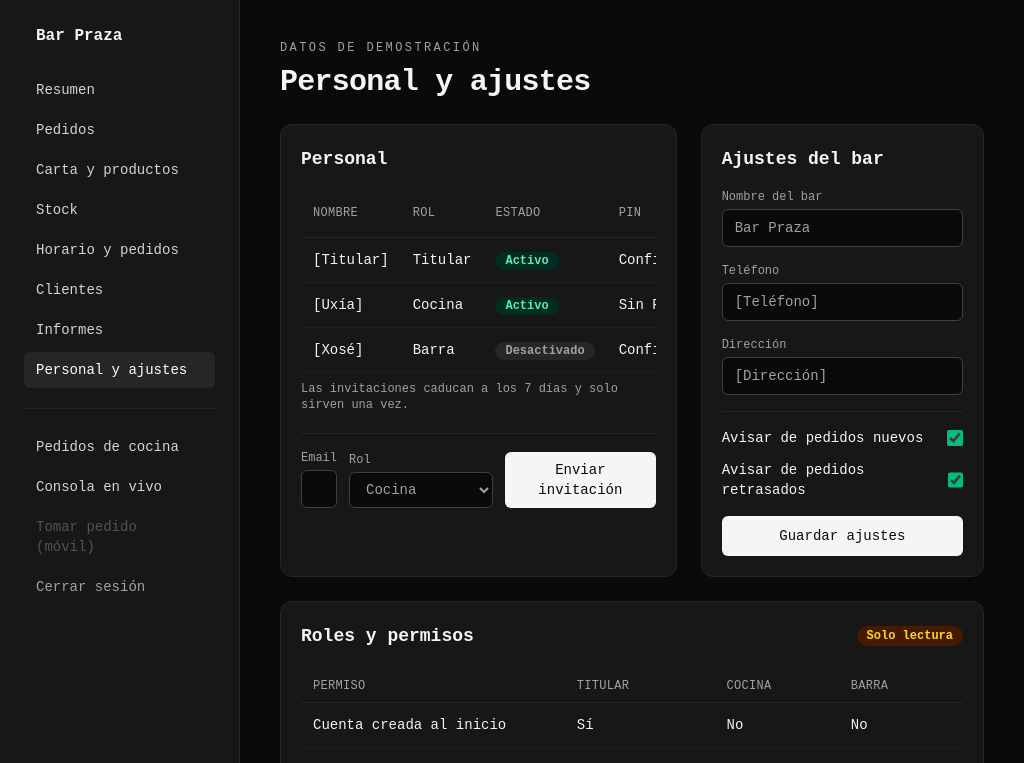
TeamPage edge cases › tells the user when the invitation cannot be sent, and keeps the email
Type "brais@bar.es" into the field labelled "Email" at x=319, y=489, box [301,470,337,508]
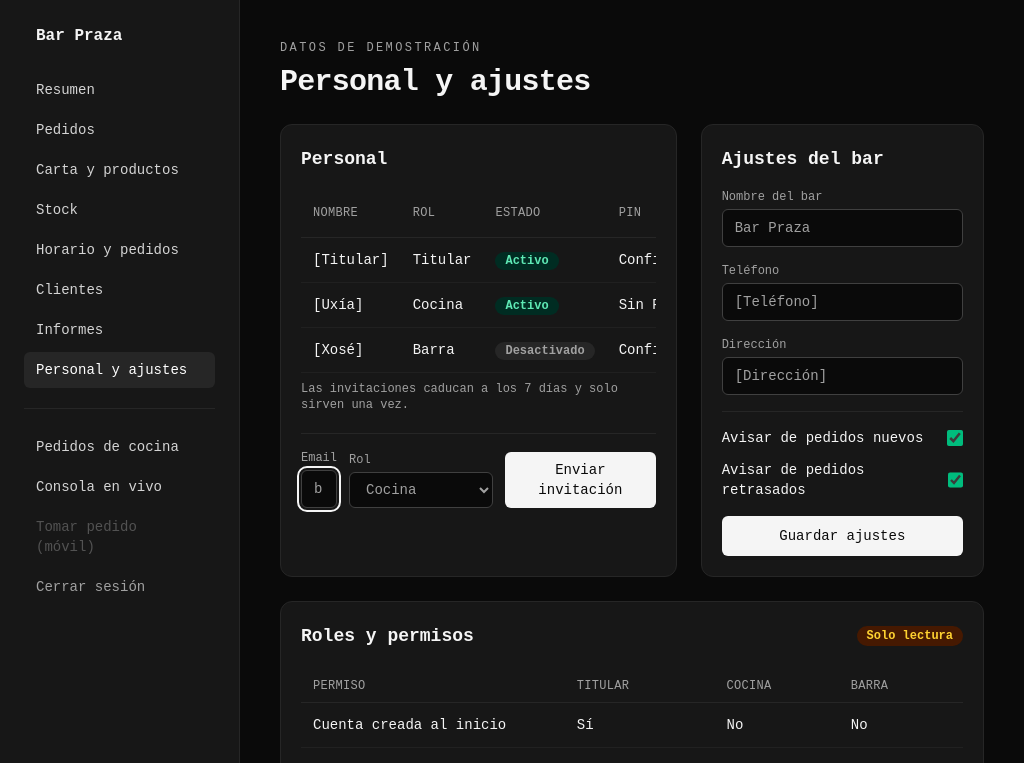
Click the button "Enviar invitación" at x=580, y=480, box [505,452,656,508]
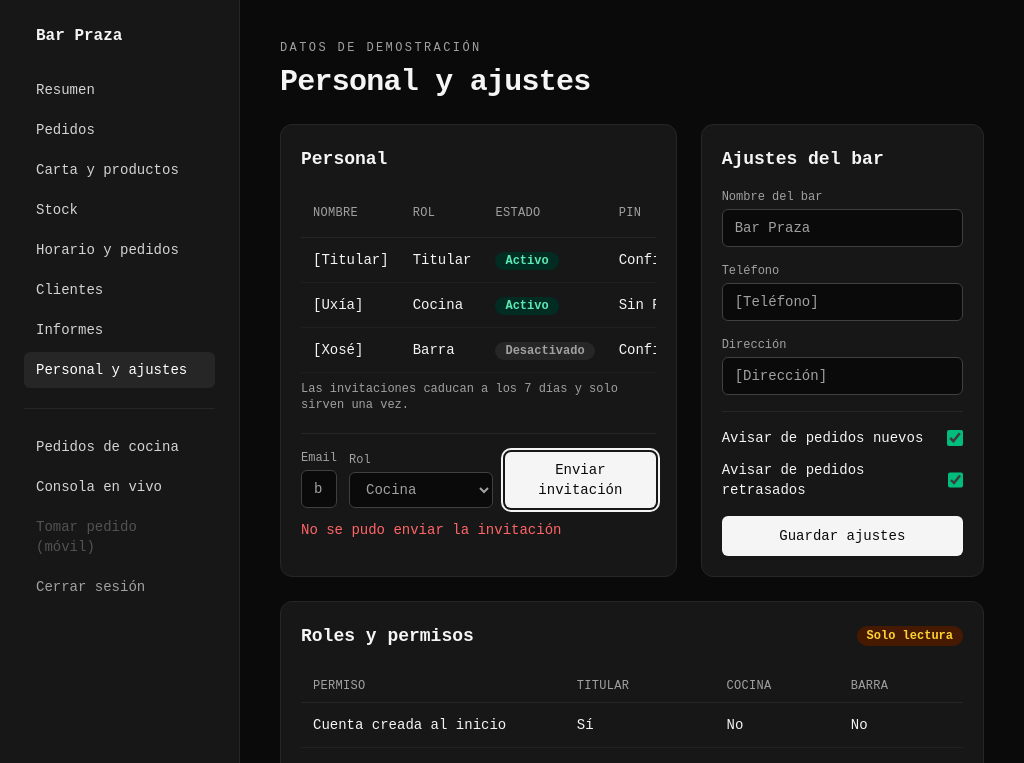
Result: the message reads "No se pudo enviar la invitación" at [301,522,562,538]
